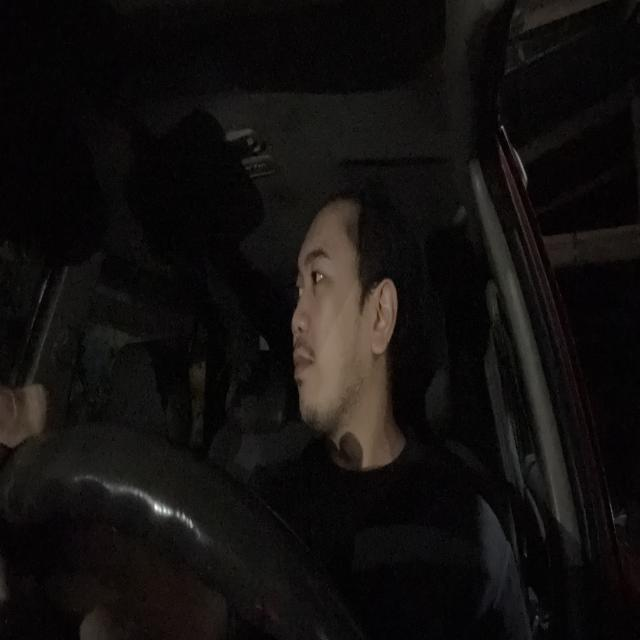open: (303, 245, 336, 300)
